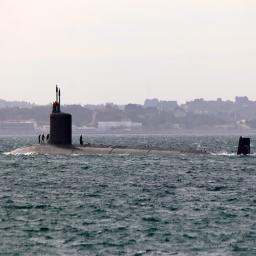submarine: (12, 97, 253, 160)
